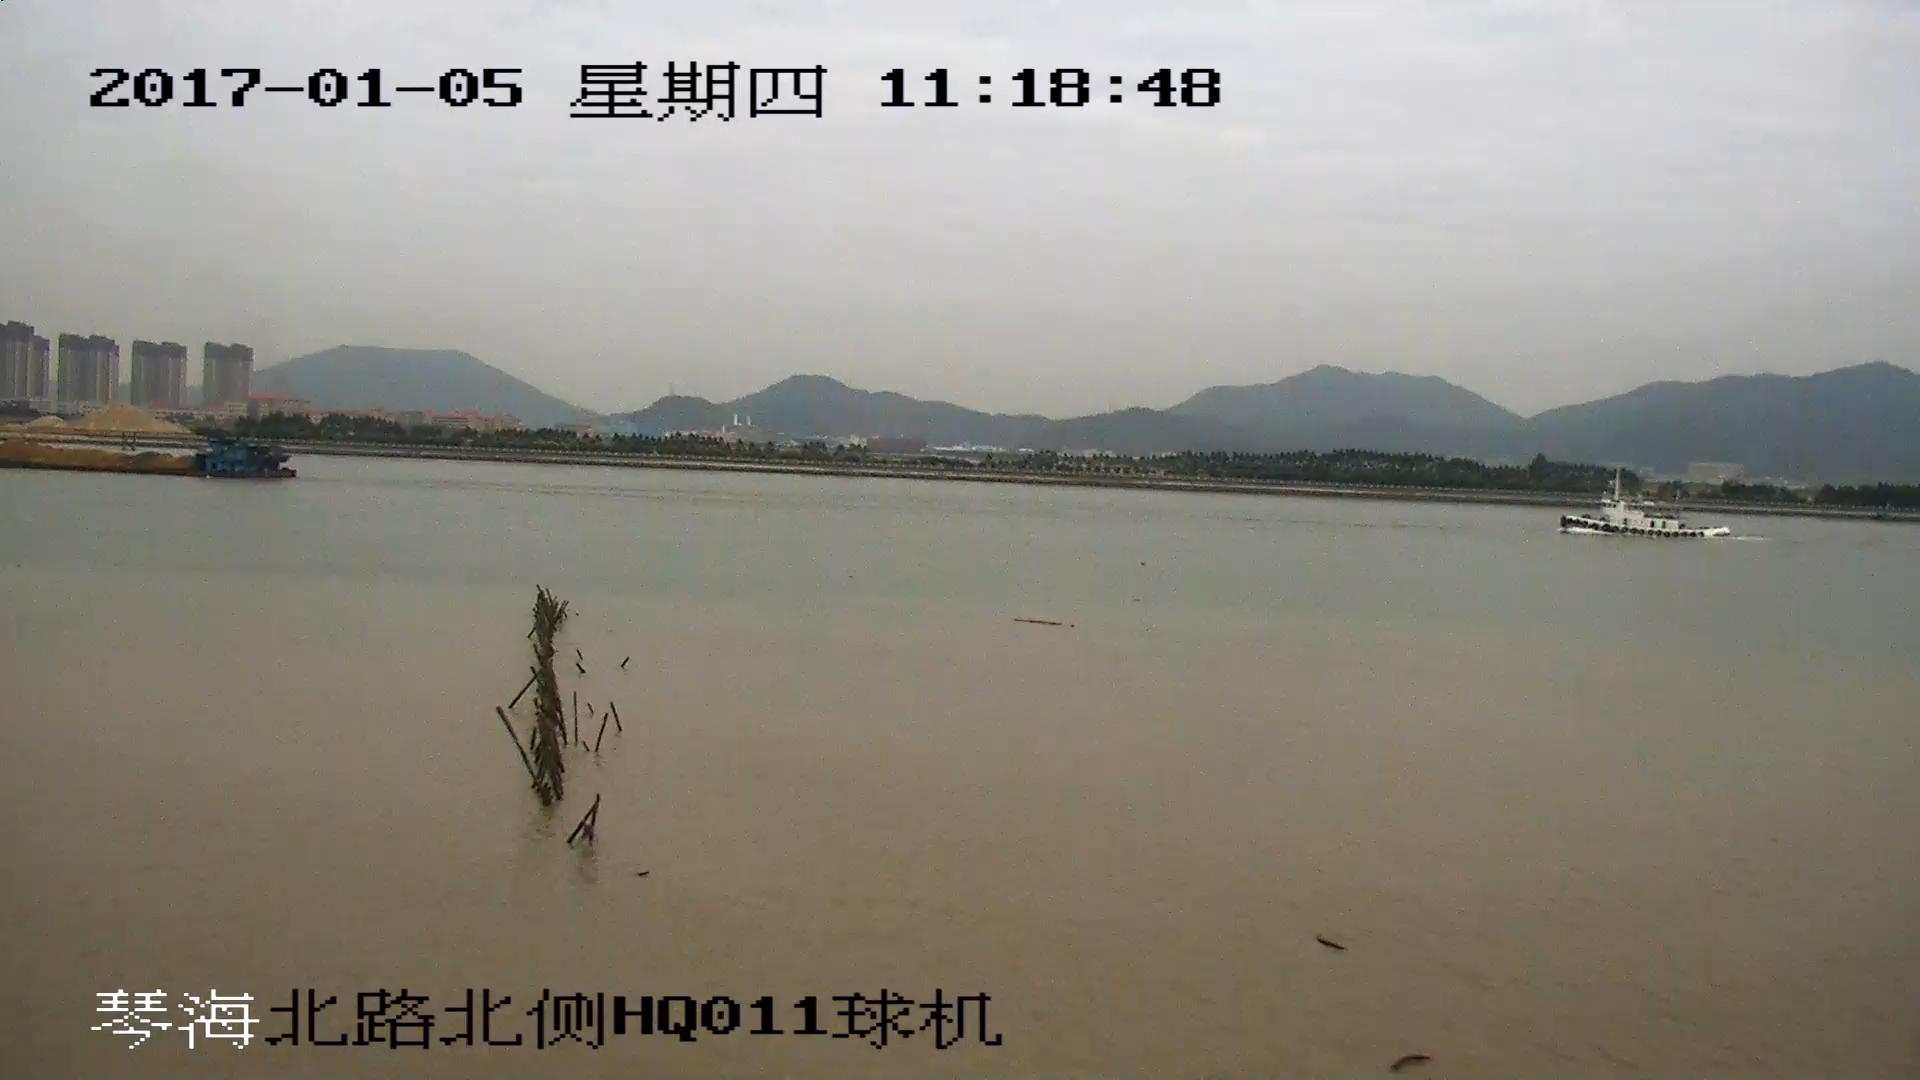fishing boat: (1560, 476, 1722, 536)
ore carrier: (1, 440, 298, 480)
